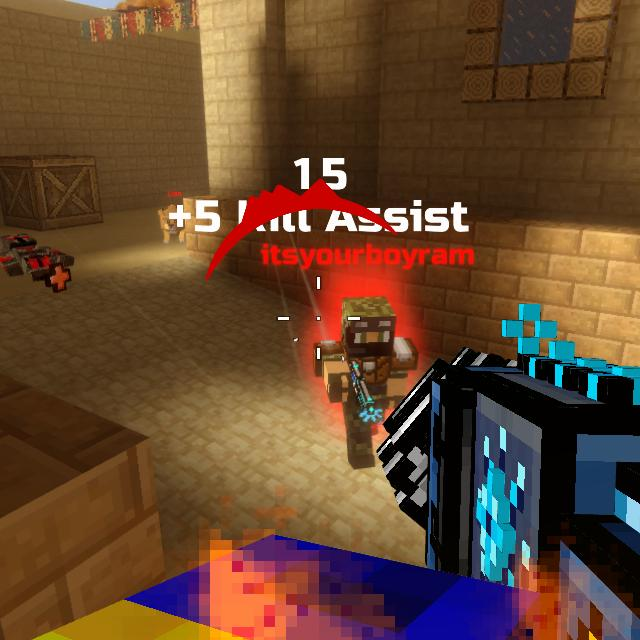Enemy: (313, 296, 419, 470)
